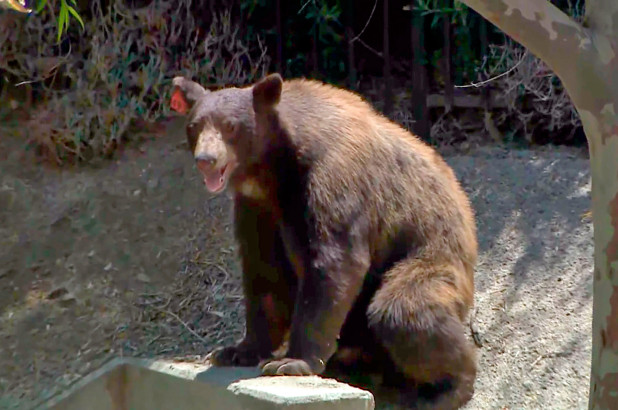bear: (167, 71, 290, 198)
